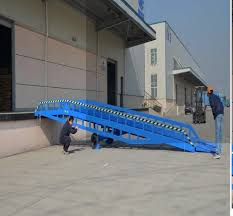Yard Ramp: (32, 96, 222, 159)
